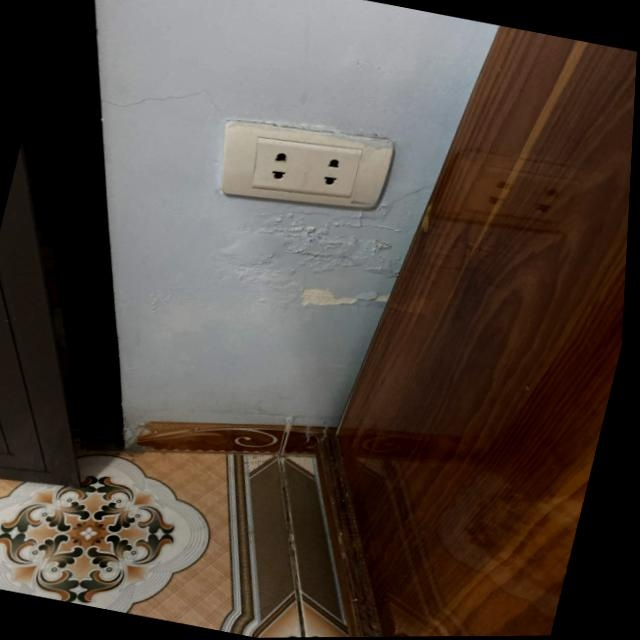outlet: (207, 107, 399, 225)
